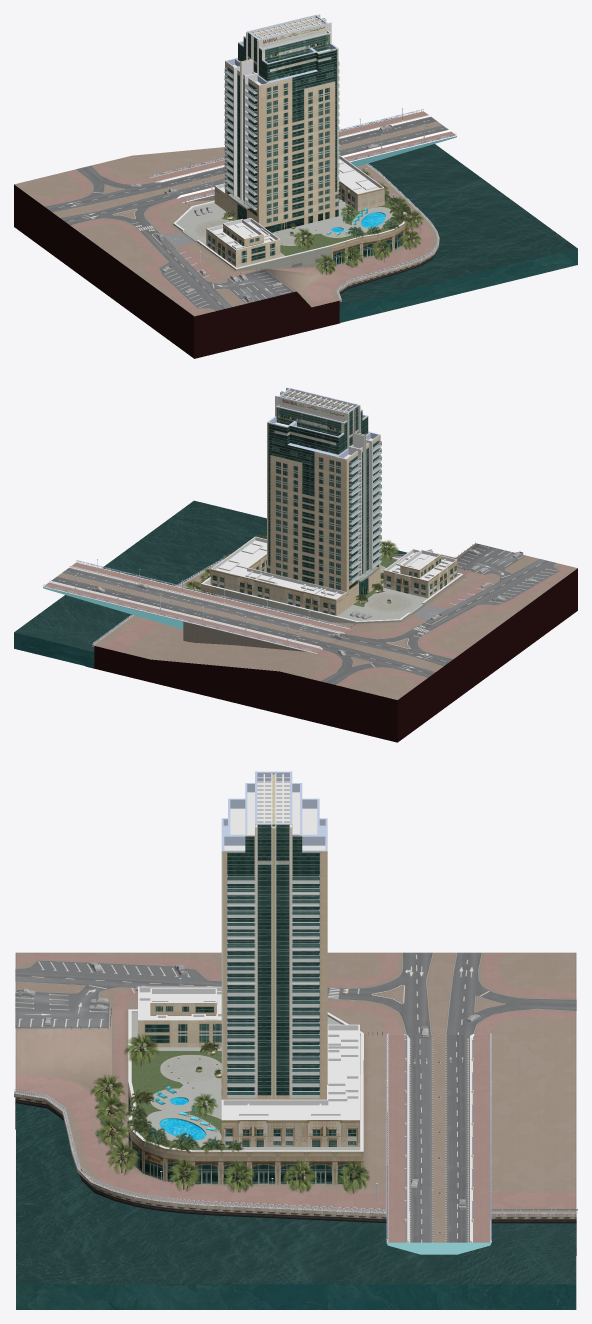
The model's file is dxb_marina_hotel.glb.
The picture shows the model from 3 angles, top to bottom: view 1: azimuth 30°, elevation 25°; view 2: azimuth 150°, elevation 25°; view 3: azimuth 270°, elevation 25°; orthographic projection. The views are drawn at different scales.
Visible parts, largest first — view 1: Plane010_Material #15_0, Plane012, Object006q_ttt_0, Object004_Material #30_0, Plane035, Box001, Box030, Box002_BETON_0, Box002_CTECLO_0, Cylinder001_BETON_0, Object003_Material #16_0, Object006q_METALL_0 (+2 smaller); view 2: Plane010_Material #15_0, Object004_Material #30_0, Object006q_ttt_0, Plane012, Box001, Box030, Box002_BETON_0, Plane035, Cylinder001_BETON_0, Cylinder001_METALL_0, Box002_CTECLO_0, Object006q_METALL_0 (+1 smaller); view 3: Plane010_Material #15_0, Plane012, Object006q_ttt_0, Box001, Plane035, Box030, Box002_BETON_0, Box002_CTECLO_0, Object003_Material #16_0, Object006q_BETON_0, Object006q_METALL_0, Cylinder001_BETON_0 (+14 smaller).
Boxes of the visible parts, x1=… form: Plane010_Material #15_0: x1=14, y1=147, x2=437, y2=316; Plane012: x1=291, y1=117, x2=577, y2=322; Object006q_ttt_0: x1=225, y1=23, x2=338, y2=232; Object004_Material #30_0: x1=14, y1=184, x2=339, y2=358; Plane035: x1=173, y1=197, x2=407, y2=270; Box001: x1=151, y1=111, x2=456, y2=201; Box030: x1=206, y1=155, x2=384, y2=267; Box002_BETON_0: x1=224, y1=14, x2=339, y2=209; Box002_CTECLO_0: x1=224, y1=62, x2=339, y2=208; Cylinder001_BETON_0: x1=150, y1=111, x2=456, y2=202; Object003_Material #16_0: x1=336, y1=164, x2=439, y2=322; Object006q_METALL_0: x1=225, y1=14, x2=338, y2=85; Plane010_Material #15_0: x1=94, y1=543, x2=577, y2=699; Object004_Material #30_0: x1=85, y1=568, x2=577, y2=742; Object006q_ttt_0: x1=267, y1=396, x2=380, y2=608; Plane012: x1=14, y1=500, x2=407, y2=667; Box001: x1=43, y1=562, x2=349, y2=652; Box030: x1=210, y1=536, x2=457, y2=615; Box002_BETON_0: x1=275, y1=387, x2=381, y2=583; Plane035: x1=200, y1=555, x2=463, y2=623; Cylinder001_BETON_0: x1=43, y1=562, x2=350, y2=653; Cylinder001_METALL_0: x1=43, y1=559, x2=347, y2=652; Box002_CTECLO_0: x1=349, y1=441, x2=381, y2=582; Object006q_METALL_0: x1=267, y1=388, x2=379, y2=459; Plane010_Material #15_0: x1=15, y1=952, x2=576, y2=1212; Plane012: x1=16, y1=1099, x2=576, y2=1309; Object006q_ttt_0: x1=221, y1=824, x2=327, y2=1099; Box001: x1=387, y1=1035, x2=491, y2=1254; Plane035: x1=128, y1=1009, x2=363, y2=1184; Box030: x1=138, y1=986, x2=359, y2=1146; Box002_BETON_0: x1=227, y1=771, x2=319, y2=1098; Box002_CTECLO_0: x1=227, y1=877, x2=319, y2=1096; Object003_Material #16_0: x1=14, y1=1092, x2=576, y2=1248; Object006q_BETON_0: x1=224, y1=782, x2=325, y2=850; Object006q_METALL_0: x1=221, y1=771, x2=327, y2=851; Cylinder001_BETON_0: x1=386, y1=1034, x2=491, y2=1243.
Bounding box in the file's own units: 187 × 106 × 153.
27 materials, 15 textured.
